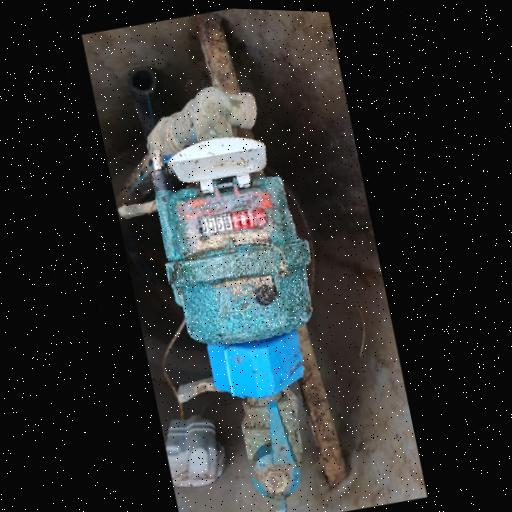0: (198, 215, 210, 237)
1: (245, 208, 258, 228)
2: (230, 211, 242, 231)
5: (215, 213, 225, 233)
7: (207, 215, 218, 235)
8: (238, 209, 250, 229), (222, 212, 233, 232)
9: (255, 208, 268, 227)
border_water_meter_number: (193, 201, 271, 244)
